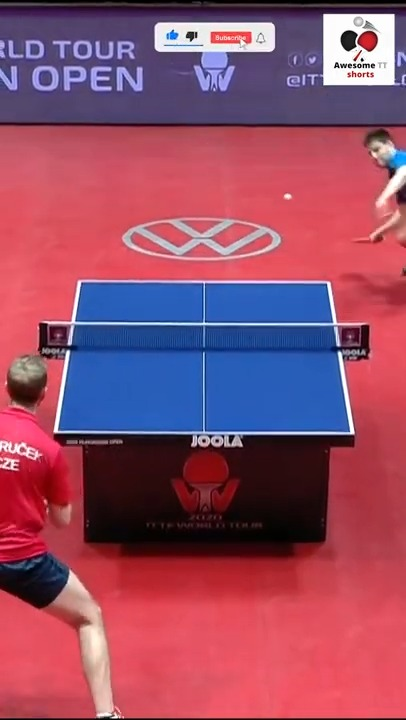Ball: (283, 190, 292, 203)
